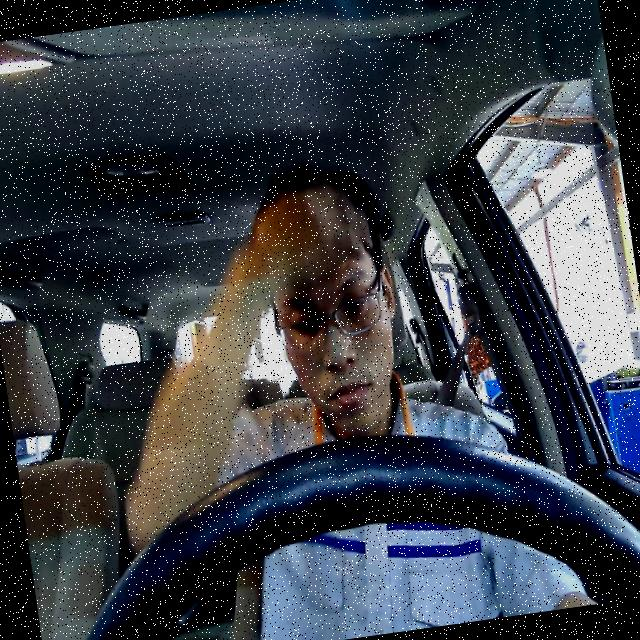focused: (273, 262, 414, 442)
